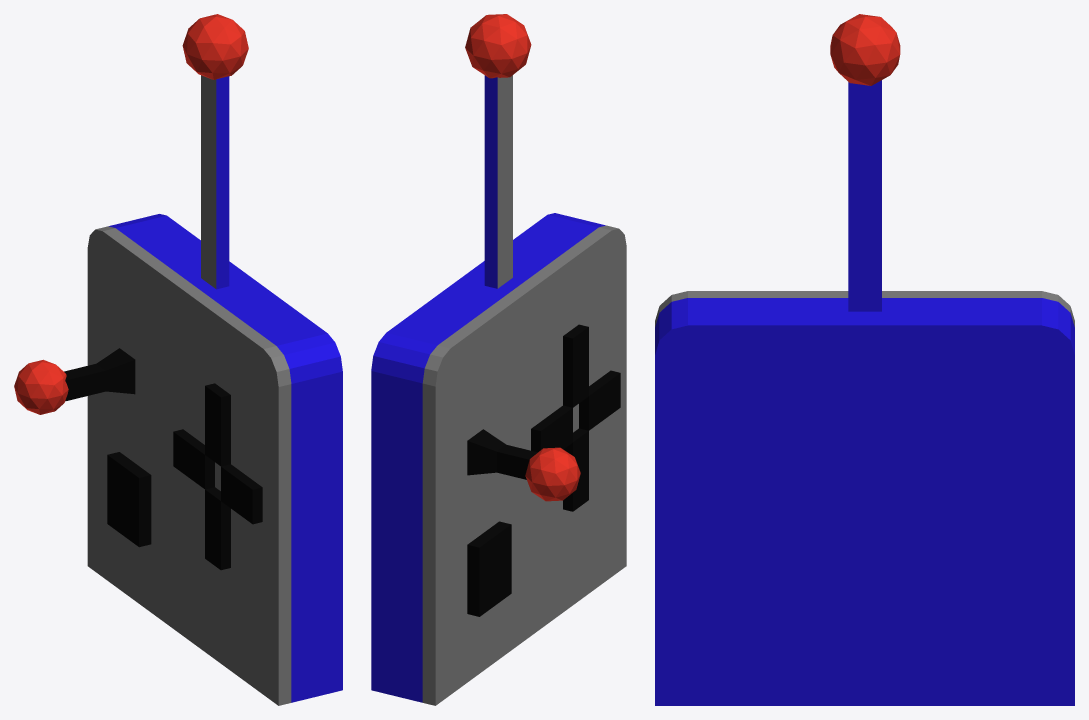
The model's file is manette.fbx.
The picture shows the model from 3 angles, left to right: view 1: azimuth 30°, elevation 25°; view 2: azimuth 150°, elevation 25°; view 3: azimuth 270°, elevation 25°; orthographic projection. The views are drawn at different scales.
Parts seen in each view (by area): view 1: Cube; view 2: Cube; view 3: Cube.
Boxes of the visible parts, x1,y1,x2,y2 form: Cube: [14, 14, 342, 705]; Cube: [371, 14, 626, 705]; Cube: [655, 14, 1074, 705].
Size of the model in its own units: 5.64 by 2.9 by 9.96.
